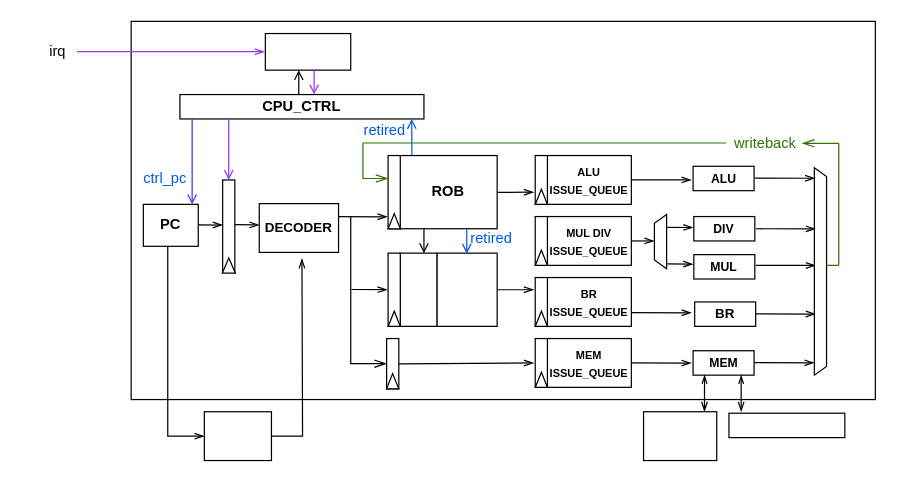
The diagram is 897 pixels wide and 482 high, and some of its shapes have lost their labels. The box of each missing label's shape, as (x1, y1, x2, y2) in pixels:
AHB-LITE: (728, 412, 845, 438)
CSR: (264, 32, 351, 70)
GPR: (436, 252, 497, 326)
ITCM: (203, 411, 271, 461)
RAT: (399, 252, 437, 326)
SPM: (642, 411, 717, 461)
